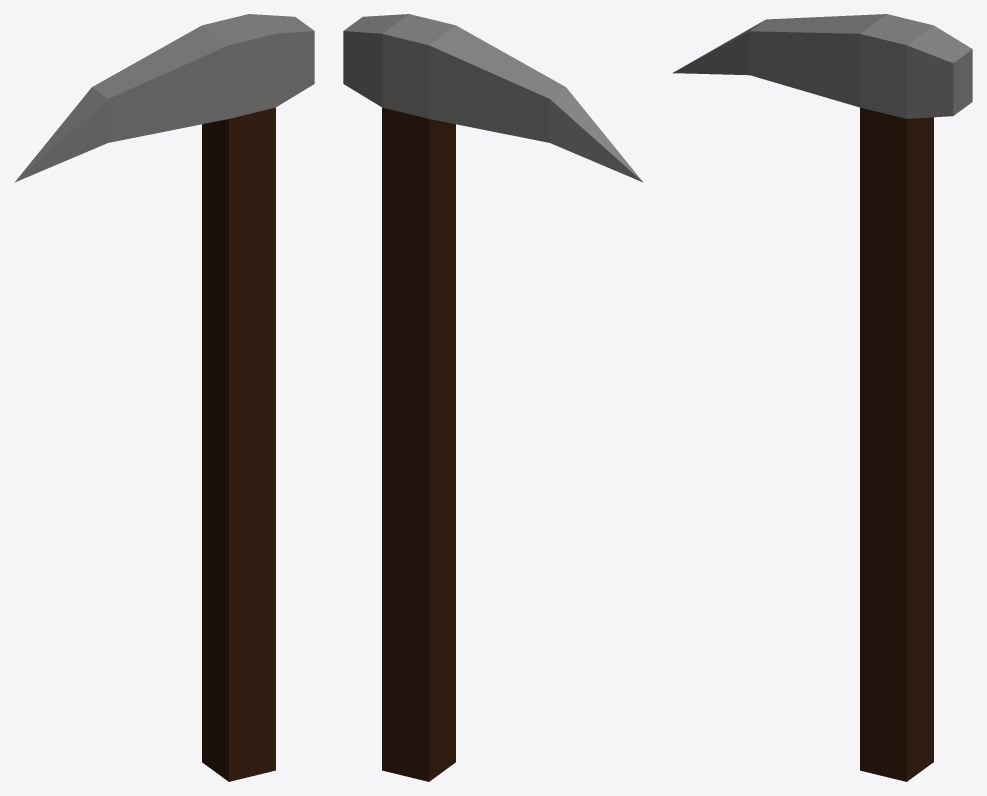
Rendered from pick.fbx.
3 renders of one model, left to right at view 1: azimuth 30°, elevation 25°; view 2: azimuth 150°, elevation 25°; view 3: azimuth 330°, elevation 25°, orthographic.
Parts seen in each view (by area): view 1: Cube; view 2: Cube; view 3: Cube.
Part boxes in pixels (x1,y1,x2,y2): Cube: (14,14,314,781); Cube: (343,14,643,781); Cube: (672,14,972,781).
Size of the model in its own units: 124 by 300 by 20.
